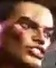kevin: (2, 0, 50, 64)
